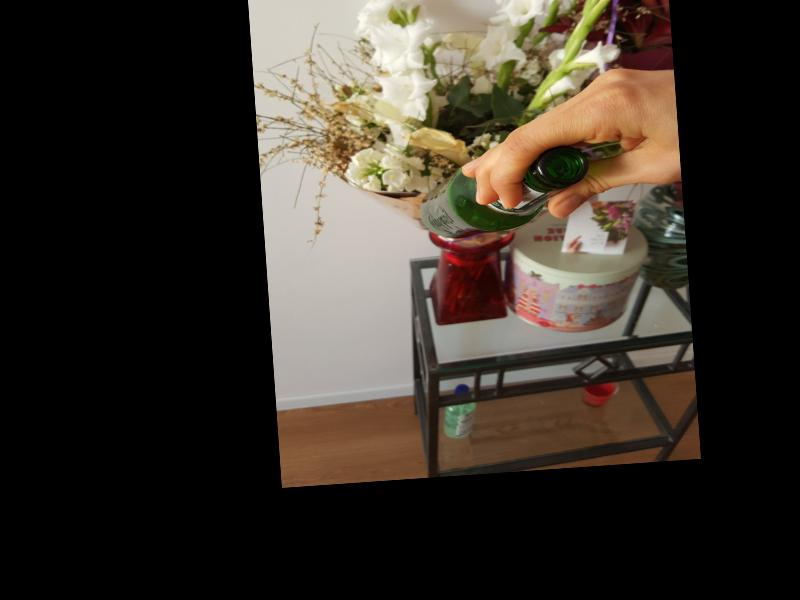Beer: (416, 145, 592, 242)
